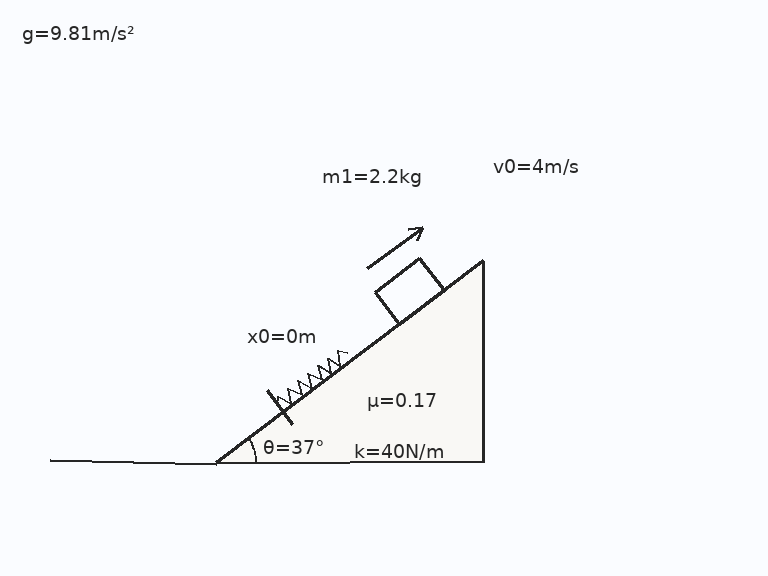block: (373, 256, 446, 326)
ramp: (214, 259, 485, 464)
spring: (275, 348, 349, 407)
